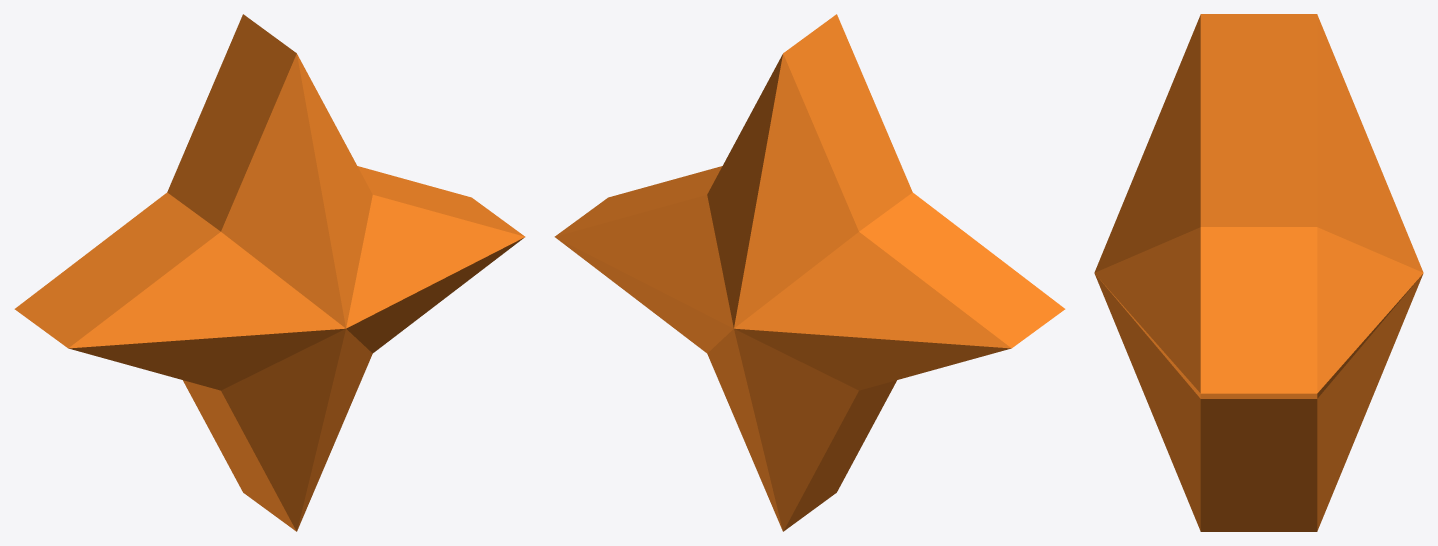
File: ui_life_small star 1.fbx
3 views of the same model, side by side, from view 1: azimuth 30°, elevation 25°; view 2: azimuth 150°, elevation 25°; view 3: azimuth 270°, elevation 25° (orthographic). The views are drawn at different scales.
Visible parts, largest first — view 1: Circle_002; view 2: Circle_002; view 3: Circle_002.
Part boxes in pixels (x1,y1,x2,y2): Circle_002: (14, 14, 525, 531); Circle_002: (554, 14, 1065, 531); Circle_002: (1094, 14, 1423, 531).
Bounding box in the file's own units: 400 × 400 × 231.
